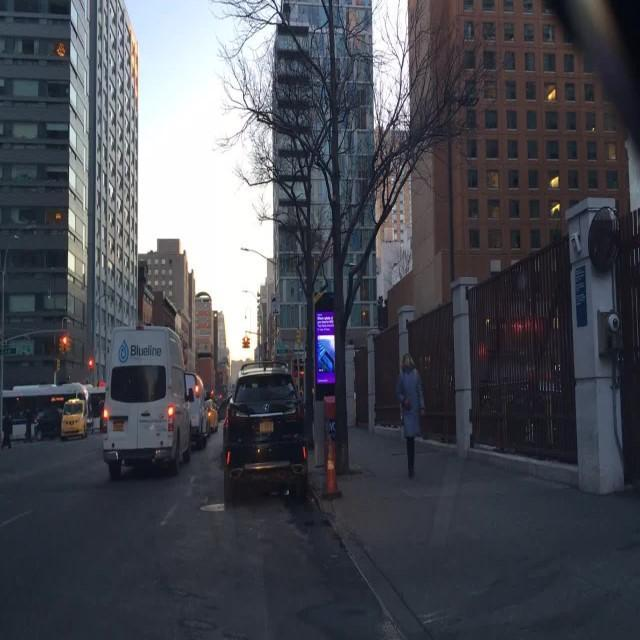normal: (42, 276, 372, 533)
